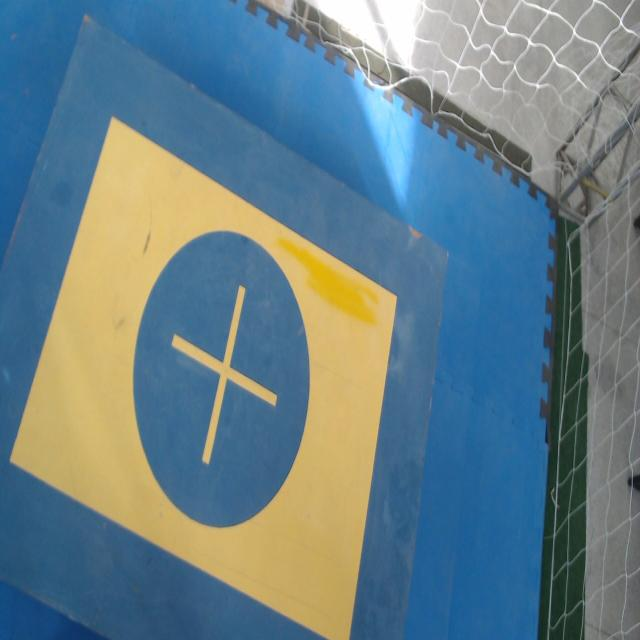base_inicio: (9, 118, 399, 639)
